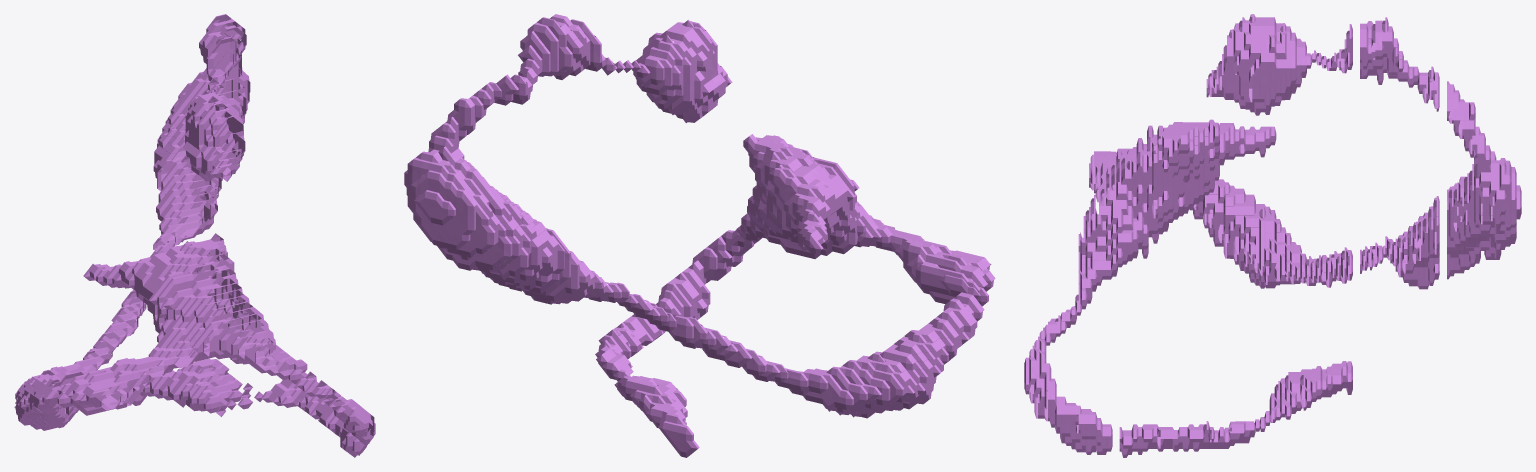
Rendered from SVV_CEPVR.gltf.
3 renders of one model, left to right at view 1: azimuth 30°, elevation 25°; view 2: azimuth 150°, elevation 25°; view 3: azimuth 270°, elevation 25°, orthographic. The views are drawn at different scales.
Parts seen in each view (by area): view 1: CEPVR; view 2: CEPVR; view 3: CEPVR.
Boxes of the visible parts, left/top/right/bottom form: CEPVR: left=14, top=14, right=375, bottom=457; CEPVR: left=404, top=14, right=995, bottom=457; CEPVR: left=1024, top=14, right=1521, bottom=457.
Bounding box in the file's own units: 36373 × 35861 × 37396.
